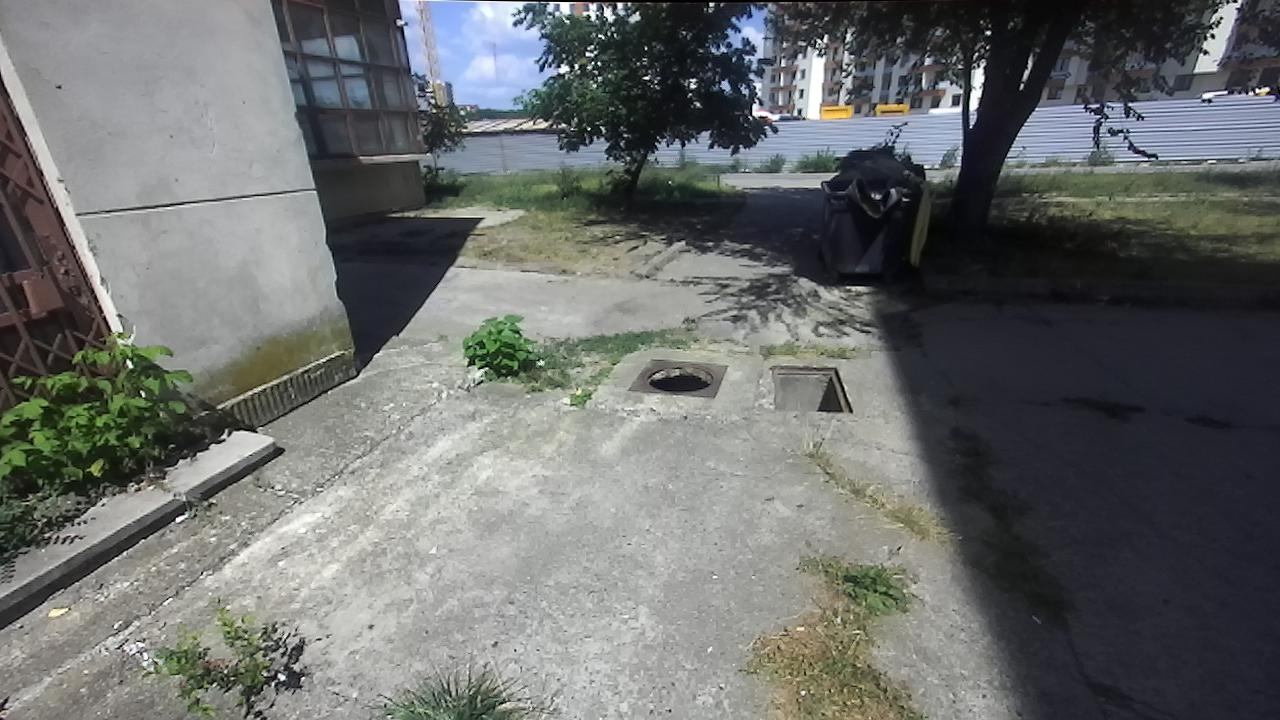drain: (769, 363, 855, 415), (643, 359, 719, 396)
